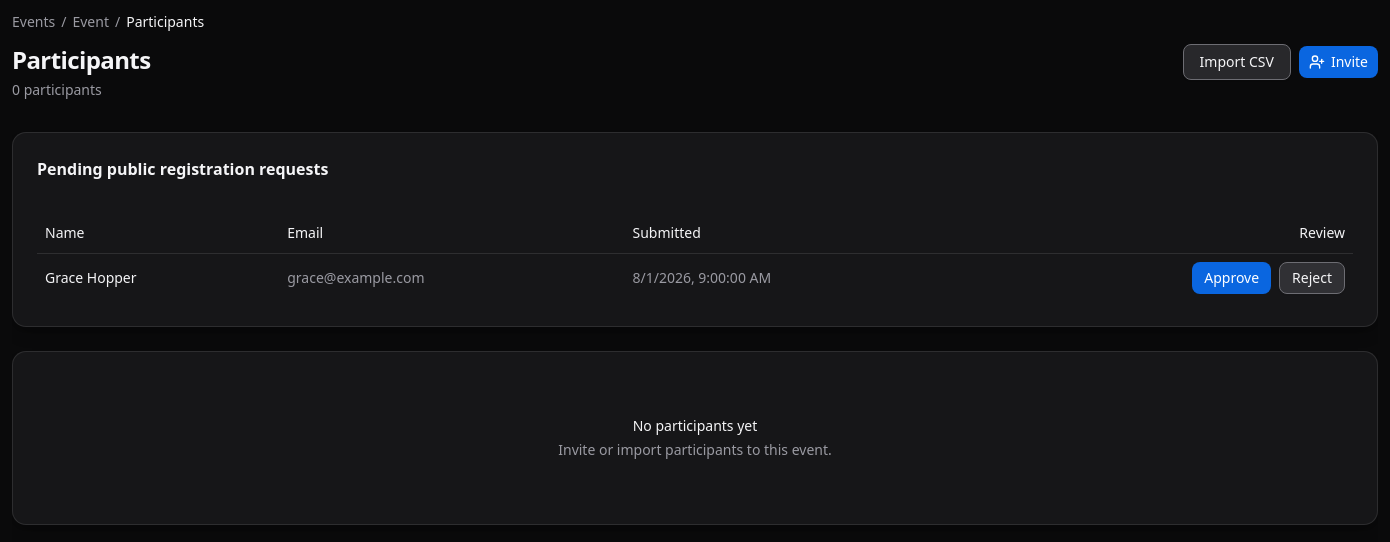
it: ParticipantsPage › lets an organizer approve a pending public registration request
Expected: the text "Grace Hopper" is shown, x1=37 y1=253 x2=279 y2=302
Expected: the text "grace@example.com" is shown, x1=279 y1=253 x2=624 y2=302
Click the button with aria-label "Approve Grace Hopper" at coordinates (1232, 278), box x1=1192 y1=262 x2=1271 y2=294
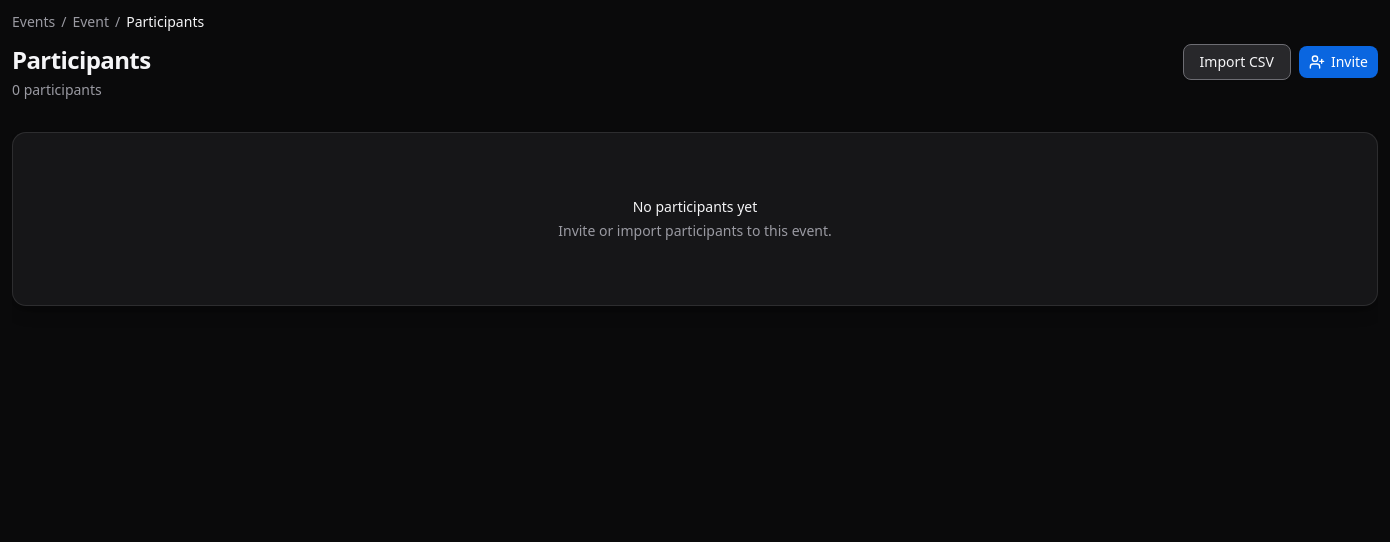
Expected: the text "Grace Hopper" is gone
